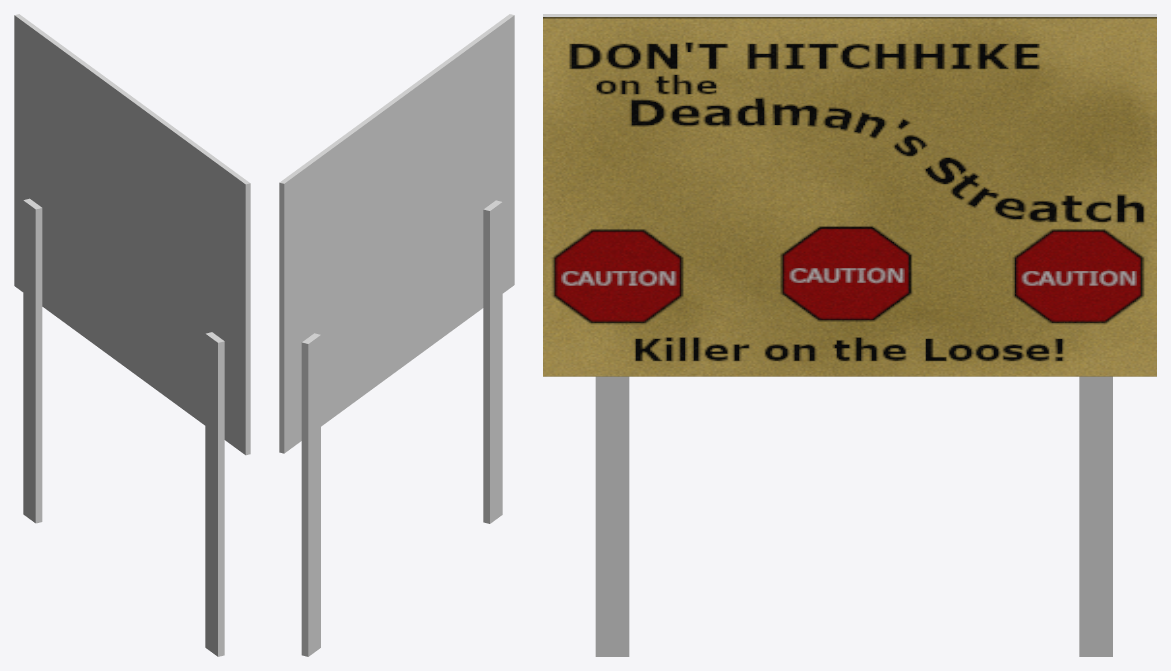
Rendered from HighwaySign.fbx.
The picture shows the model from 3 angles, left to right: view 1: azimuth 30°, elevation 25°; view 2: azimuth 150°, elevation 25°; view 3: azimuth 270°, elevation 25°; orthographic projection. The views are drawn at different scales.
Parts seen in each view (by area): view 1: Sign; view 2: Sign; view 3: Sign.
Part boxes in pixels (x1,y1,x2,y2): Sign: (14,14,250,656); Sign: (279,14,514,656); Sign: (543,14,1156,656).
Size of the model in its own units: 42.07 by 1546 by 1336.
